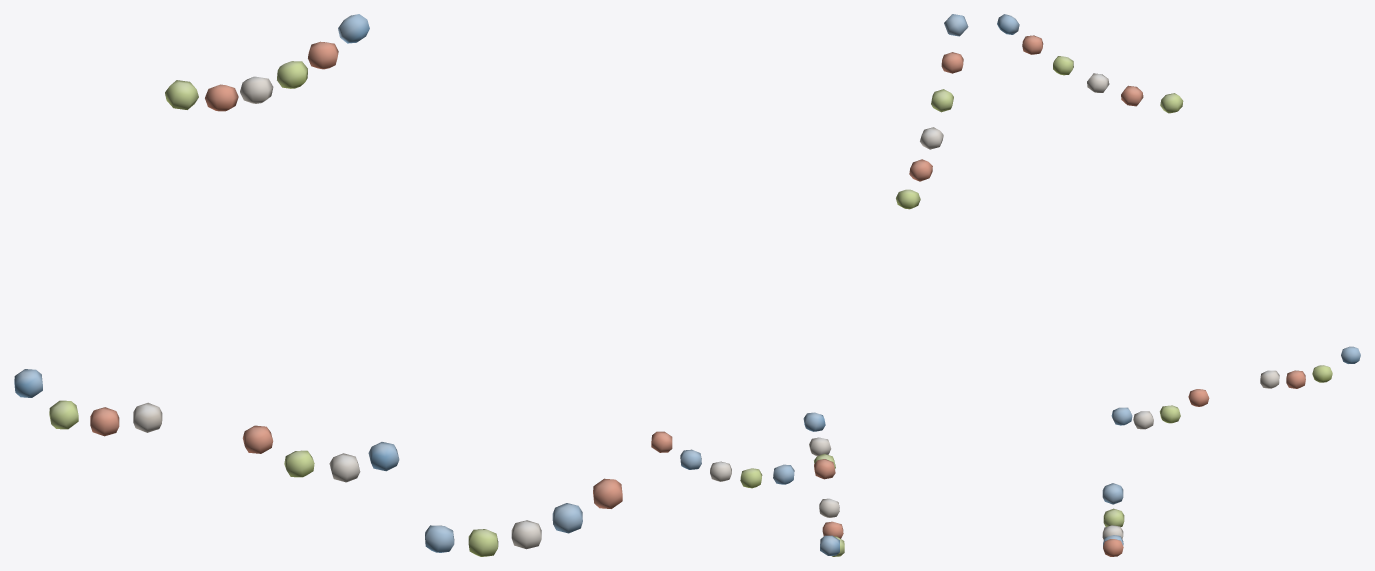
Rendered from ExchangeLanterns.glb.
3 renders of one model, left to right at view 1: azimuth 30°, elevation 25°; view 2: azimuth 150°, elevation 25°; view 3: azimuth 270°, elevation 25°, orthographic. The views are drawn at different scales.
Parts seen in each view (by area): view 1: ExchangeLanterns; view 2: ExchangeLanterns; view 3: ExchangeLanterns.
Part boxes in pixels (<box>): ExchangeLanterns: <box>14,14,622,556</box>; ExchangeLanterns: <box>651,14,968,556</box>; ExchangeLanterns: <box>997,14,1360,556</box>.
Bounding box in the file's own units: 3.43 × 4.9 × 3.63.
